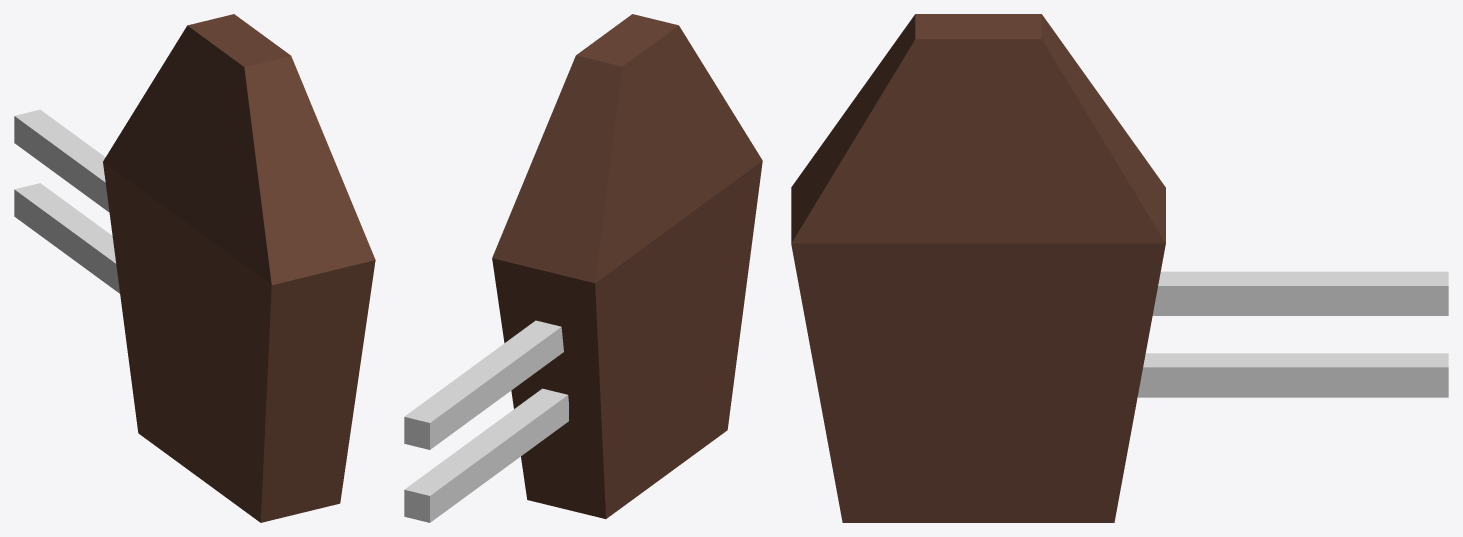
Rendered from Fence.fbx.
3 views of the same model, side by side, from view 1: azimuth 30°, elevation 25°; view 2: azimuth 150°, elevation 25°; view 3: azimuth 270°, elevation 25° (orthographic). The views are drawn at different scales.
Visible parts, largest first — view 1: Cube, Cube.001, Cube.002; view 2: Cube, Cube.001, Cube.002; view 3: Cube, Cube.001, Cube.002.
Boxes of the visible parts, x1,y1,x2,y2 form: Cube: (103,14,375,522); Cube.001: (14,183,119,293); Cube.002: (14,109,109,212); Cube: (492,14,762,518); Cube.001: (404,388,568,522); Cube.002: (404,320,563,449); Cube: (791,14,1165,522); Cube.001: (1138,353,1448,397); Cube.002: (1152,271,1448,315).
Size of the model in its own units: 81.35 by 320 by 402.
